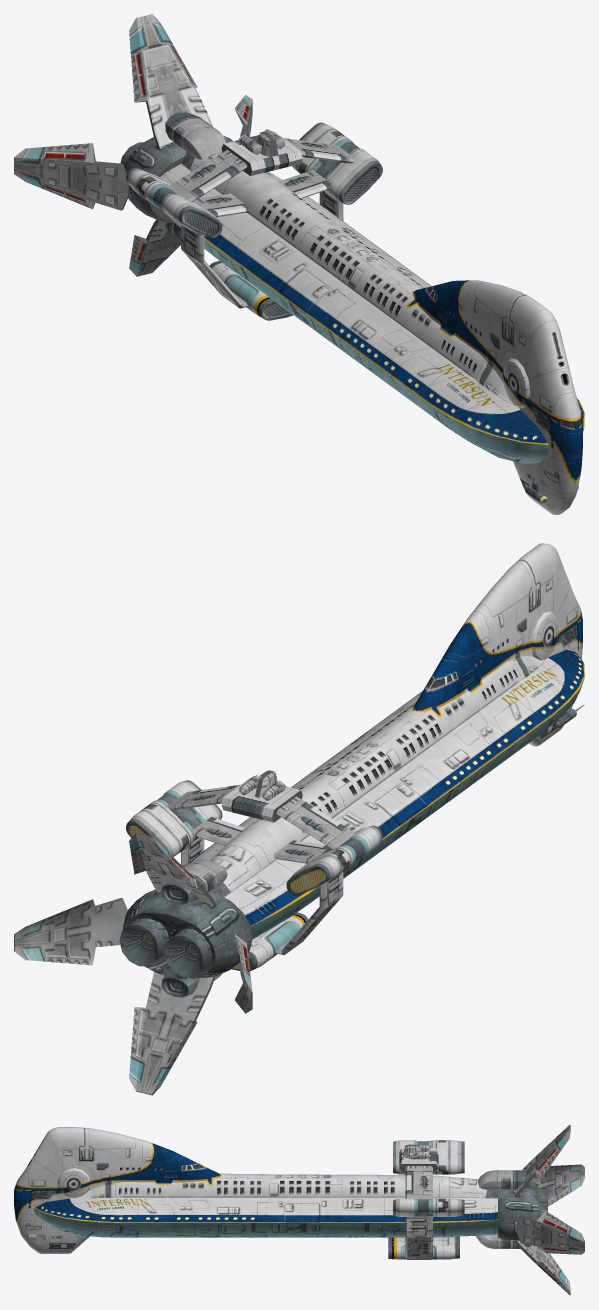
File: Colonial ONE.fbx
3 renders of one model, top to bottom at view 1: azimuth 30°, elevation 25°; view 2: azimuth 150°, elevation 25°; view 3: azimuth 270°, elevation 25°, orthographic. The views are drawn at different scales.
Visible parts, largest first — view 1: colcol1cox_3_1; view 2: colcol1cox_3_1; view 3: colcol1cox_3_1.
Boxes of the visible parts, x1,y1,x2,y2 form: colcol1cox_3_1: (14, 14, 584, 514); colcol1cox_3_1: (14, 543, 584, 1095); colcol1cox_3_1: (14, 1125, 584, 1294).
Size of the model in its own units: 25.72 by 83.1 by 26.69.
2 materials, 1 textured.
